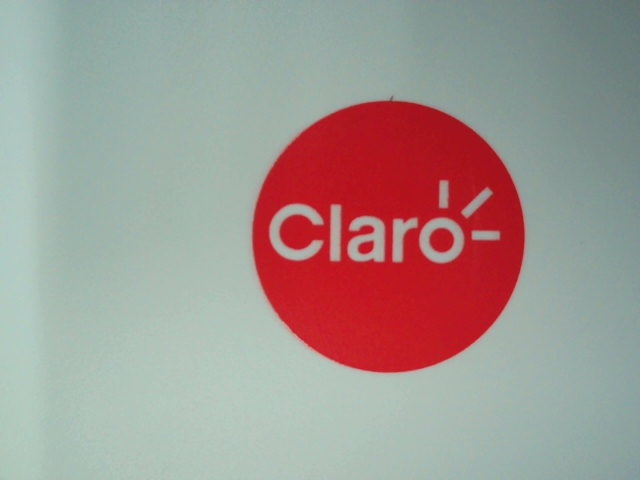BC_ClaorRed: (245, 94, 531, 383)
